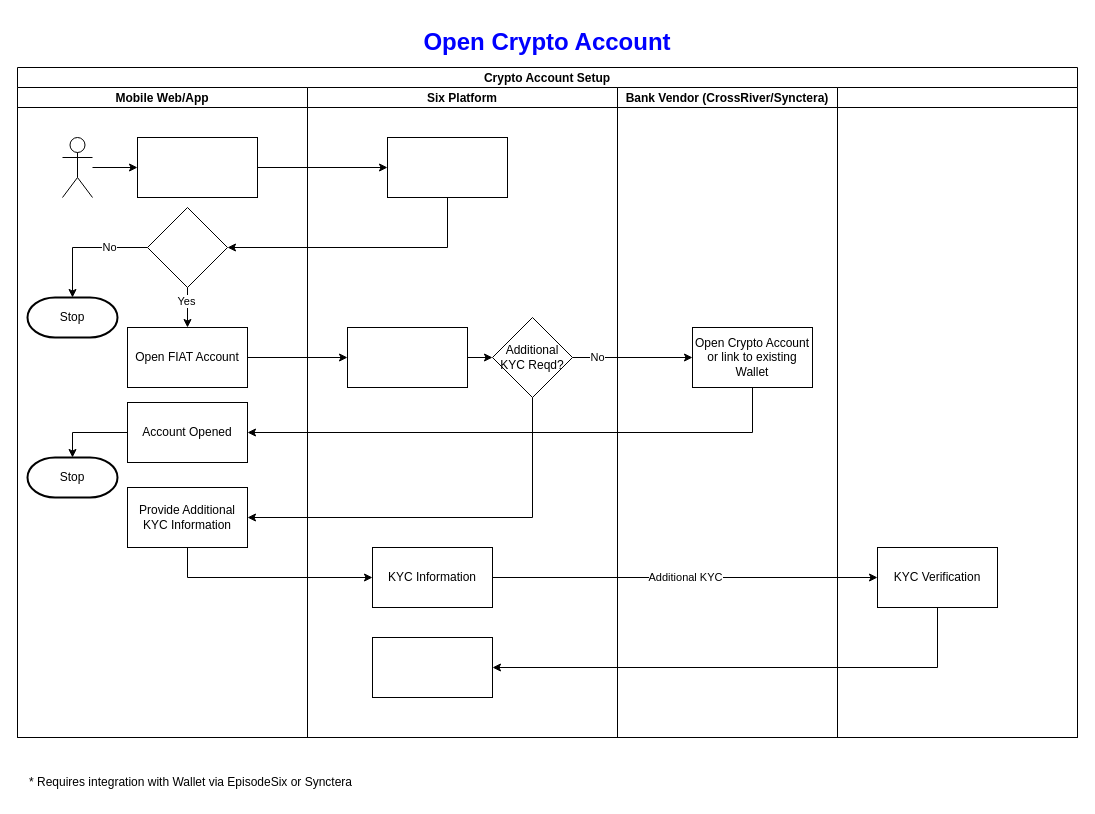
The diagram is 1095 pixels wide and 814 high, and some of its shapes have lost their labels. The box of each missing label's shape, as (x1, y1, x2, y2) in pixels:
Bank Information: (372, 636, 492, 698)
KYC Vendor (Prove/Synctera): (836, 86, 1078, 738)
Login to Six: (136, 136, 258, 198)
Login Verification: (386, 136, 508, 198)
Mobile App User: (62, 136, 92, 198)
Success: (146, 206, 228, 288)
Verify KYC Requirements: (346, 326, 468, 388)
